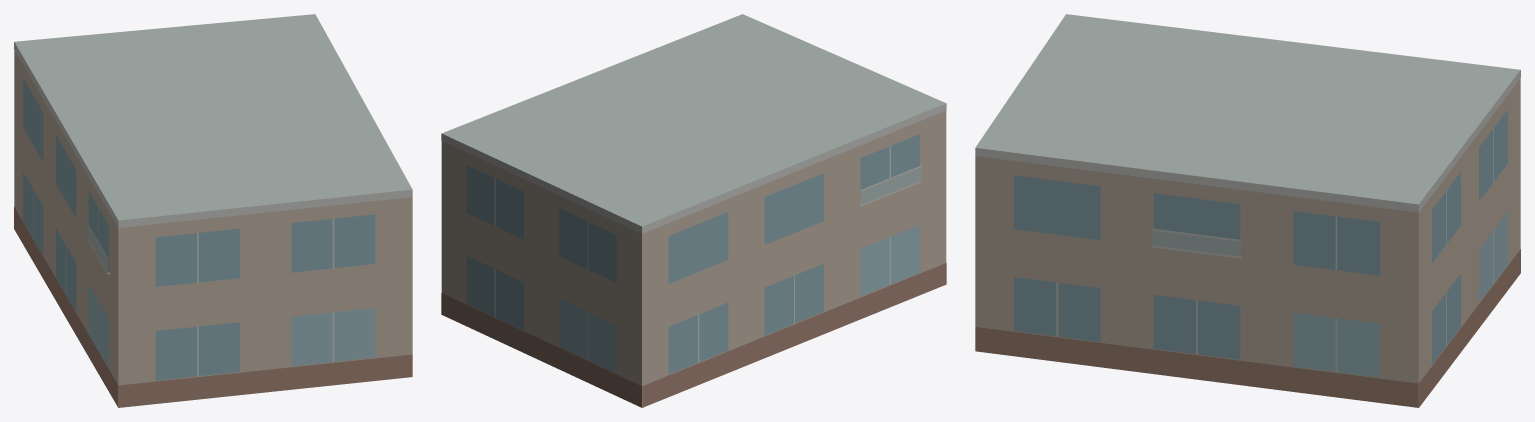
The model's file is survey-upis-32909958.glb.
3 renders of one model, left to right at view 1: azimuth 30°, elevation 25°; view 2: azimuth 150°, elevation 25°; view 3: azimuth 270°, elevation 25°, orthographic. The views are drawn at different scales.
Parts seen in each view (by area): view 1: survey-upis-32909958.tmp; view 2: survey-upis-32909958.tmp; view 3: survey-upis-32909958.tmp.
Part boxes in pixels (box(x1,y1,x2,y2)): survey-upis-32909958.tmp: box(14, 14, 412, 407); survey-upis-32909958.tmp: box(441, 14, 946, 407); survey-upis-32909958.tmp: box(975, 14, 1520, 407).
Bounding box in the file's own units: 12.26 × 6.1 × 14.84.
